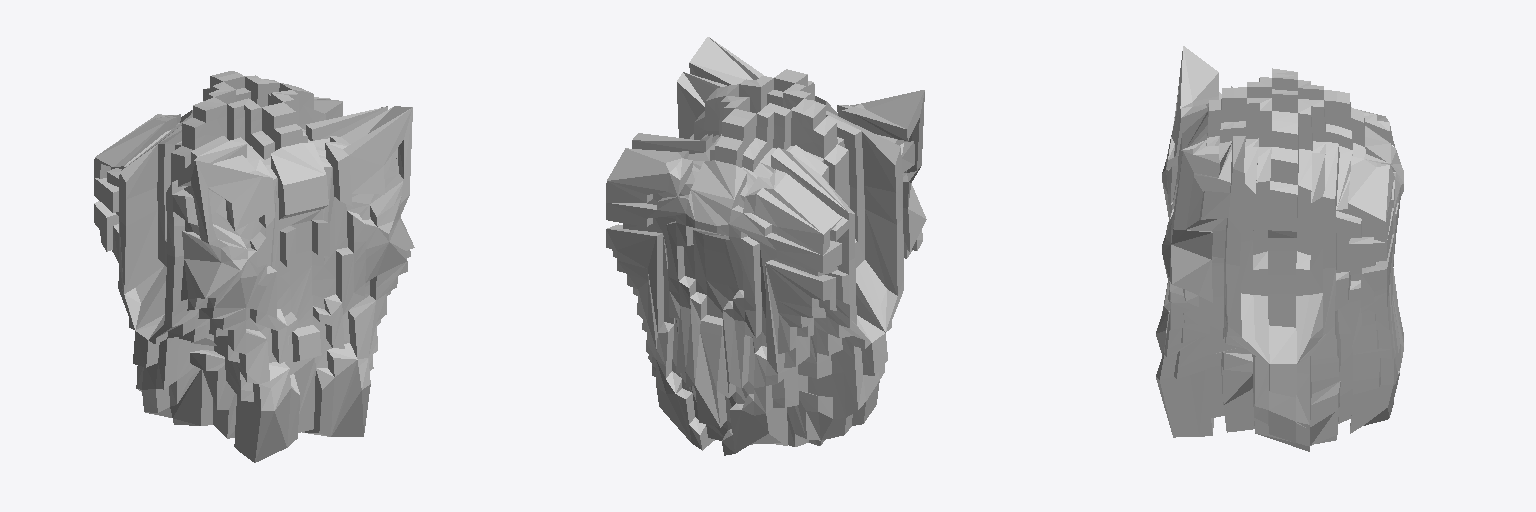
File: RocketsHomingBot_LOD0.obj
3 renders of one model, left to right at view 1: azimuth 30°, elevation 25°; view 2: azimuth 150°, elevation 25°; view 3: azimuth 270°, elevation 25°, orthographic.
Visible parts, largest first — view 1: RocketsHomingBot_LOD0; view 2: RocketsHomingBot_LOD0; view 3: RocketsHomingBot_LOD0.
Part boxes in pixels (x1,y1,x2,y2): RocketsHomingBot_LOD0: (94, 71, 414, 462); RocketsHomingBot_LOD0: (606, 37, 926, 455); RocketsHomingBot_LOD0: (1156, 46, 1403, 451).
Size of the model in its own units: 2.12 by 2.87 by 1.98.